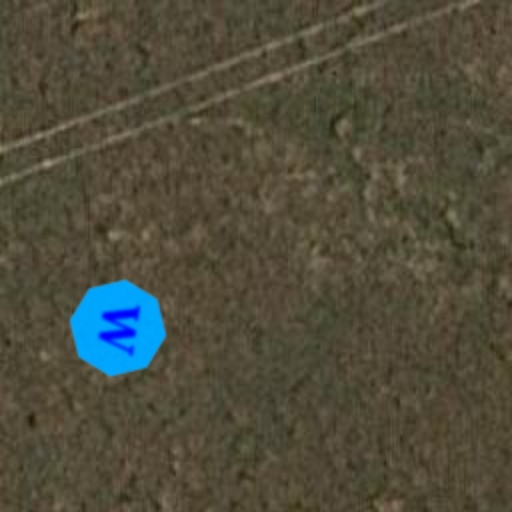octagon: (60, 270, 176, 386)
